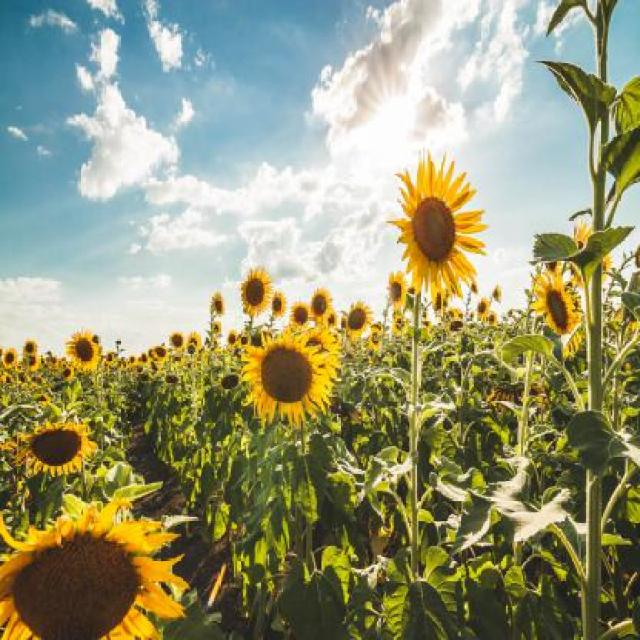sunflower: (378, 124, 490, 319), (223, 307, 343, 436)
